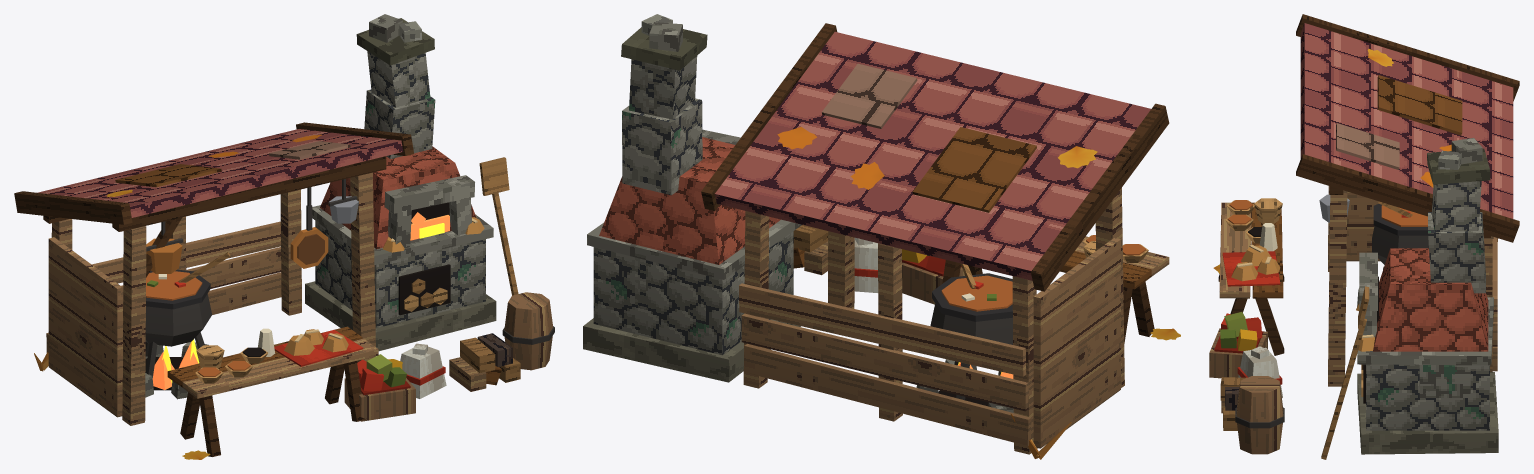
File: kitchen.glb
The picture shows the model from 3 angles, left to right: view 1: azimuth 30°, elevation 25°; view 2: azimuth 150°, elevation 25°; view 3: azimuth 270°, elevation 25°; orthographic projection. The views are drawn at different scales.
Parts seen in each view (by area): view 1: kitchen, sway_pot_2, sway_pot_1, glow_fire, sway_pot_3, glow_embers; view 2: kitchen; view 3: kitchen.
Part boxes in pixels (x1,y1,x2,y2): kitchen: (14, 14, 554, 459); sway_pot_2: (290, 187, 328, 268); sway_pot_1: (146, 221, 183, 273); glow_fire: (152, 339, 199, 389); sway_pot_3: (328, 179, 358, 223); glow_embers: (410, 212, 449, 240); kitchen: (583, 14, 1180, 459); kitchen: (1209, 14, 1519, 459).
Size of the model in its own units: 5.81 by 3.68 by 3.65.
41 materials, 20 textured.
